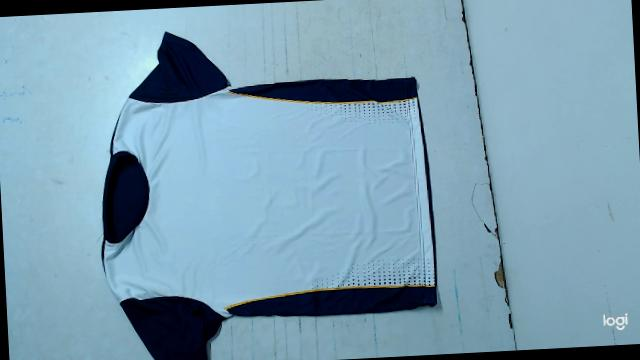new-garment: (101, 32, 436, 360)
